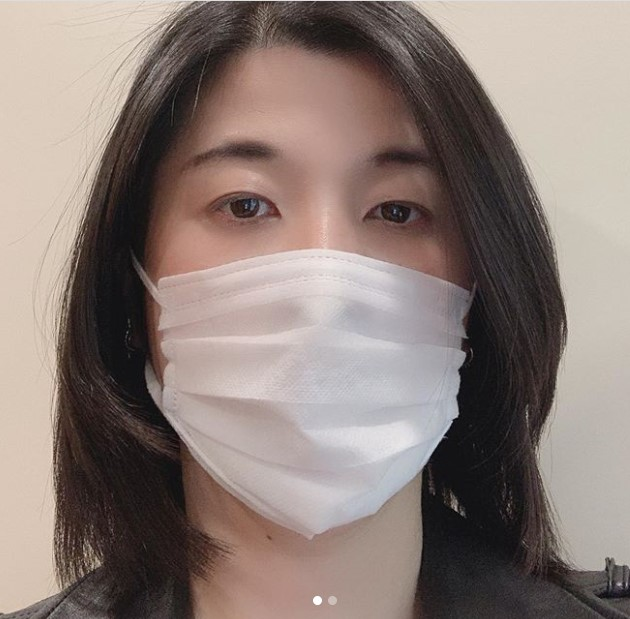face_with_mask: (100, 5, 558, 548)
